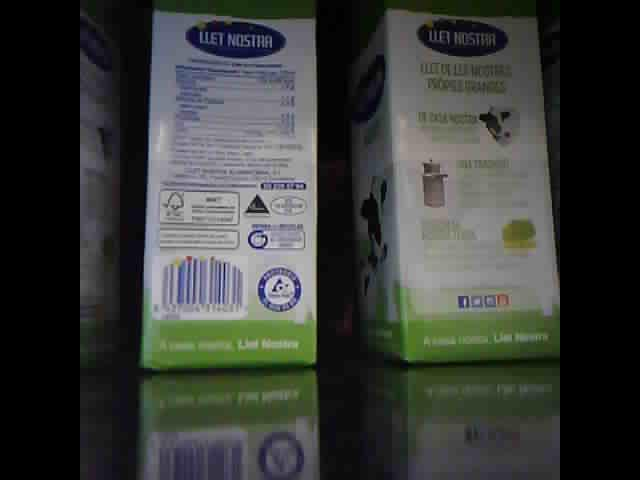leche: (360, 4, 559, 365), (136, 4, 319, 375), (81, 6, 126, 370)
